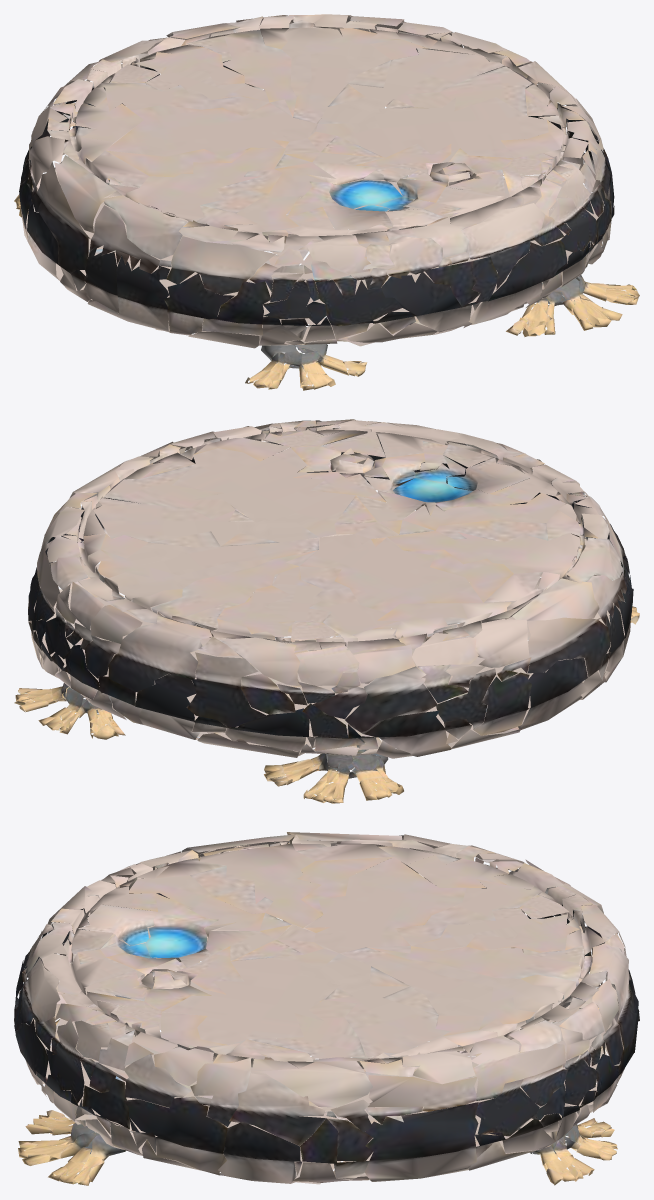
The model's file is robot_vacuum.glb.
3 renders of one model, top to bottom at view 1: azimuth 30°, elevation 25°; view 2: azimuth 150°, elevation 25°; view 3: azimuth 270°, elevation 25°, orthographic. The views are drawn at different scales.
Parts seen in each view (by area): view 1: robot_vacuum; view 2: robot_vacuum; view 3: robot_vacuum.
Part boxes in pixels (x1,y1,x2,y2): robot_vacuum: (14, 14, 639, 390); robot_vacuum: (14, 419, 639, 803); robot_vacuum: (14, 832, 639, 1185).
Bounding box in the file's own units: 0.3396 × 0.0837 × 0.34.
1 material, 1 textured.
